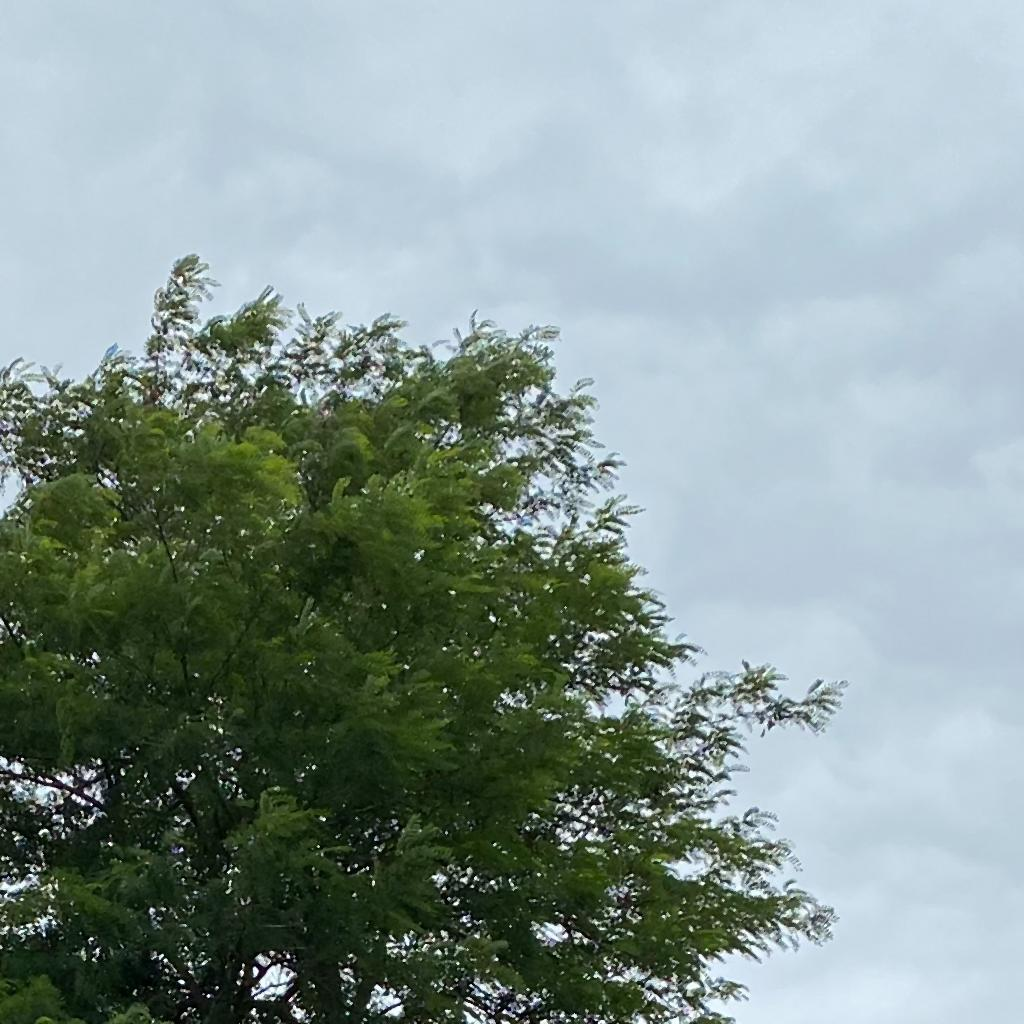tree: (1, 252, 851, 1023)
